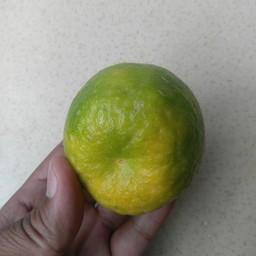Good_orange: (61, 60, 207, 218)
